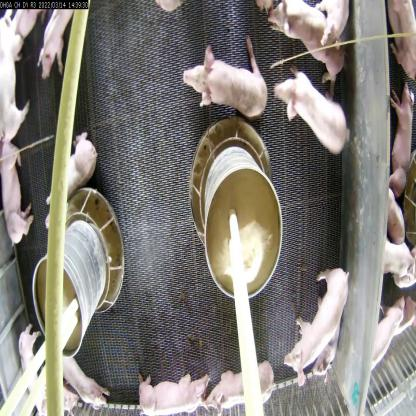Pig: (272, 59, 346, 154), (289, 264, 344, 385), (186, 44, 266, 122), (262, 0, 345, 72), (47, 140, 101, 221), (0, 12, 33, 144), (138, 359, 209, 414), (0, 140, 34, 253), (206, 365, 272, 415), (38, 7, 76, 87), (54, 345, 101, 397), (14, 327, 44, 400)
